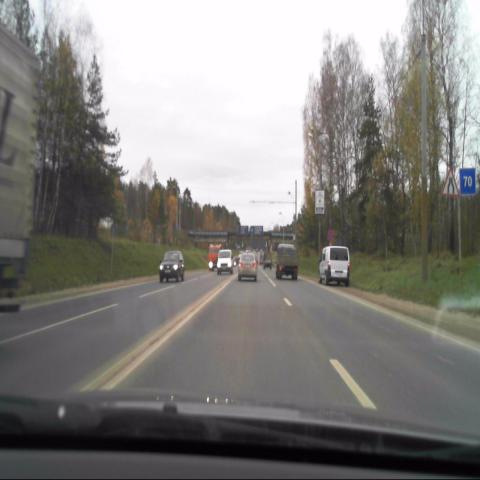1_20: (441, 170, 459, 195)
6_2: (459, 167, 477, 195)
